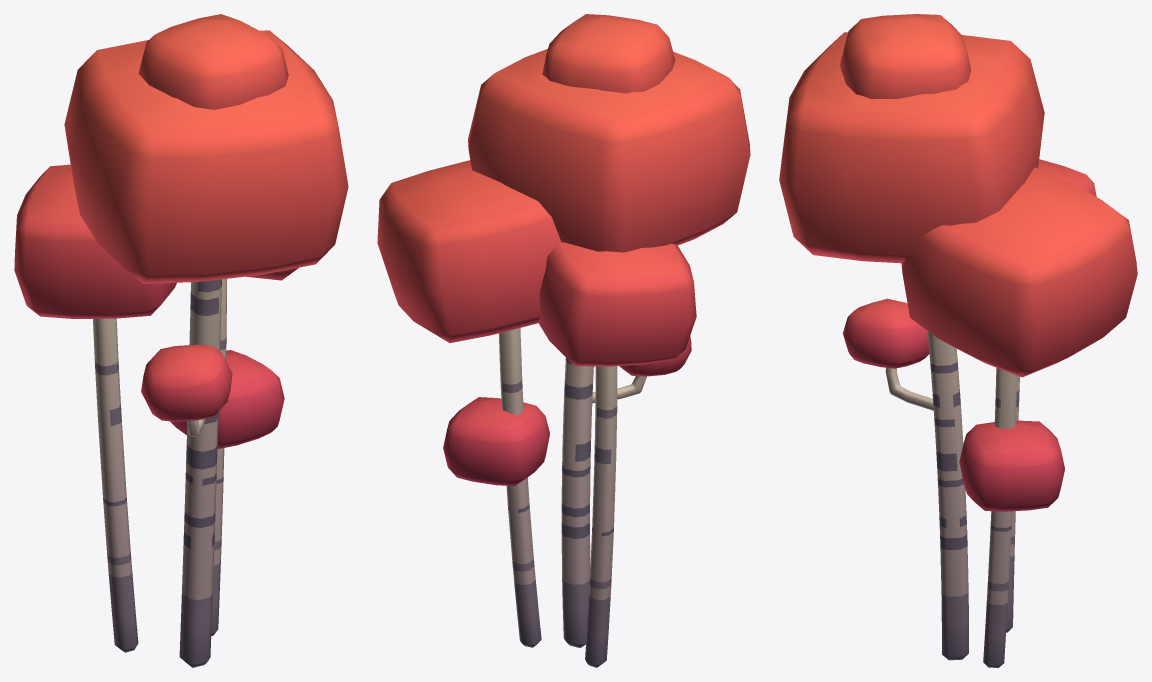
File: birch_tree_SC_05.fbx
3 views of the same model, side by side, from view 1: azimuth 30°, elevation 25°; view 2: azimuth 150°, elevation 25°; view 3: azimuth 270°, elevation 25° (orthographic). The views are drawn at different scales.
Visible parts, largest first — view 1: birch_tree_SC_05; view 2: birch_tree_SC_05; view 3: birch_tree_SC_05.
Boxes of the visible parts, left/top/right/bottom form: birch_tree_SC_05: left=14, top=14, right=348, bottom=667; birch_tree_SC_05: left=377, top=14, right=750, bottom=667; birch_tree_SC_05: left=779, top=14, right=1137, bottom=667.
Size of the model in its own units: 423 by 810 by 419.
Materials: 1 (1 with a texture image).
